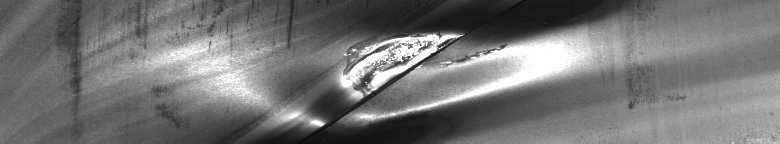ke: (137, 8, 632, 136)
